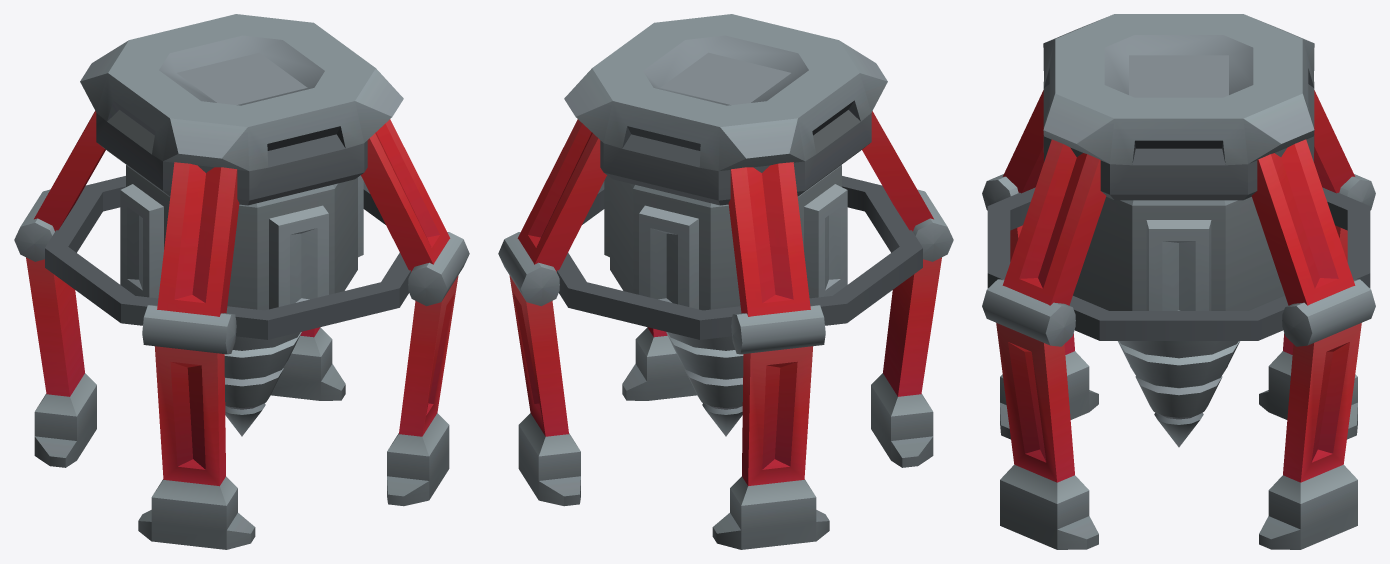
The model's file is drill-structure.glb.
3 views of the same model, side by side, from view 1: azimuth 30°, elevation 25°; view 2: azimuth 150°, elevation 25°; view 3: azimuth 270°, elevation 25° (orthographic). The views are drawn at different scales.
Visible parts, largest first — view 1: Cylinder.2728, drill_module; view 2: Cylinder.2728, drill_module; view 3: Cylinder.2728, drill_module.
Boxes of the visible parts, x1,y1,x2,y2 form: Cylinder.2728: (14, 14, 469, 549); drill_module: (120, 165, 363, 436); Cylinder.2728: (498, 14, 953, 549); drill_module: (604, 165, 847, 436); Cylinder.2728: (982, 14, 1375, 549); drill_module: (1073, 197, 1284, 447).
Size of the model in its own units: 1.75 by 2 by 1.75.
Materials: 1 (1 with a texture image).
